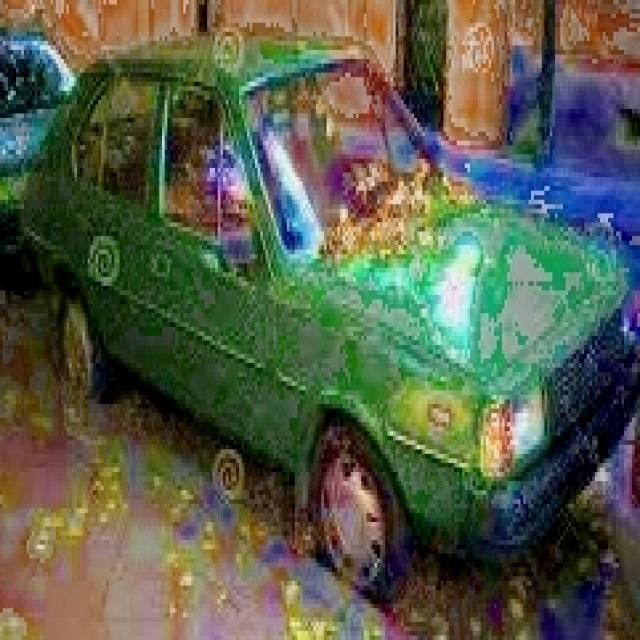green: (22, 20, 638, 592)
